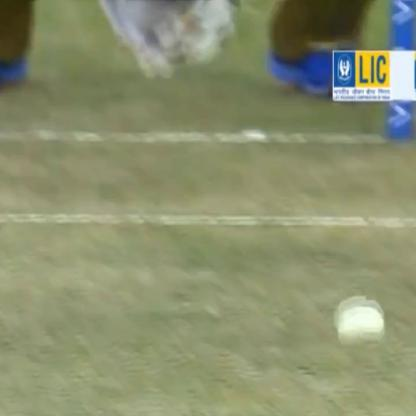ball: (342, 315, 385, 359), (328, 296, 388, 323)
